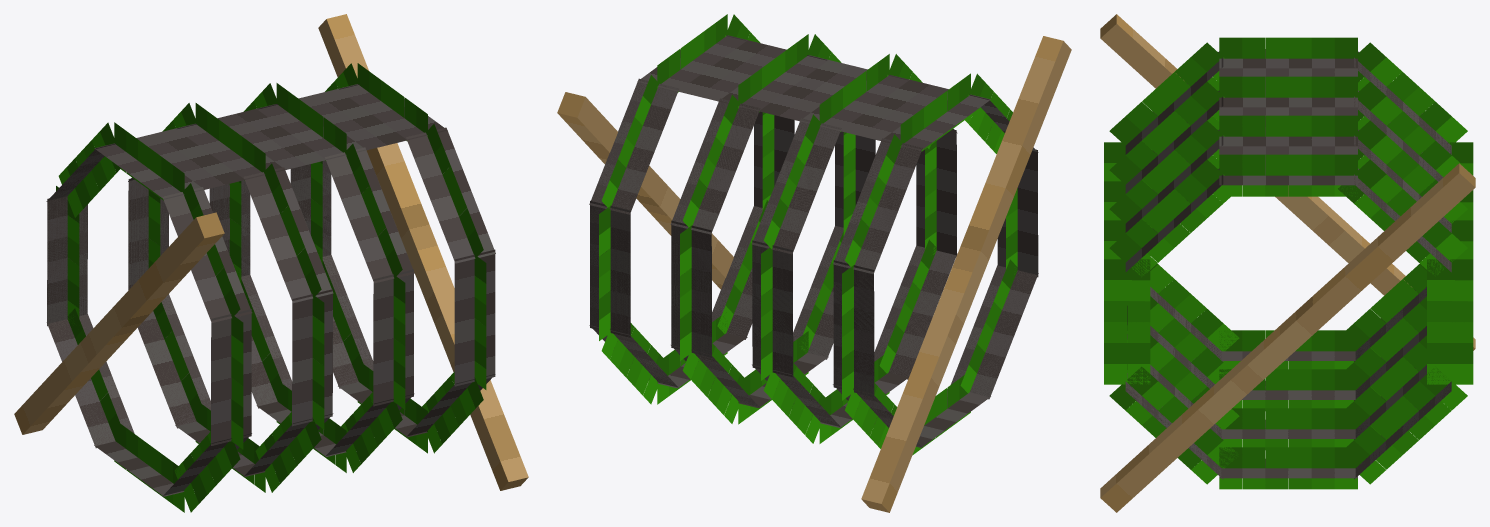
Rendered from barbed_wire_poison.obj.
3 renders of one model, left to right at view 1: azimuth 30°, elevation 25°; view 2: azimuth 150°, elevation 25°; view 3: azimuth 270°, elevation 25°, orthographic.
Visible parts, largest first — view 1: cube; view 2: cube; view 3: cube.
Boxes of the visible parts, left/top/right/bottom form: cube: left=14, top=14, right=528, bottom=512; cube: left=557, top=14, right=1071, bottom=512; cube: left=1100, top=14, right=1475, bottom=512.
Size of the model in its own units: 1 by 1.03 by 1.02.
